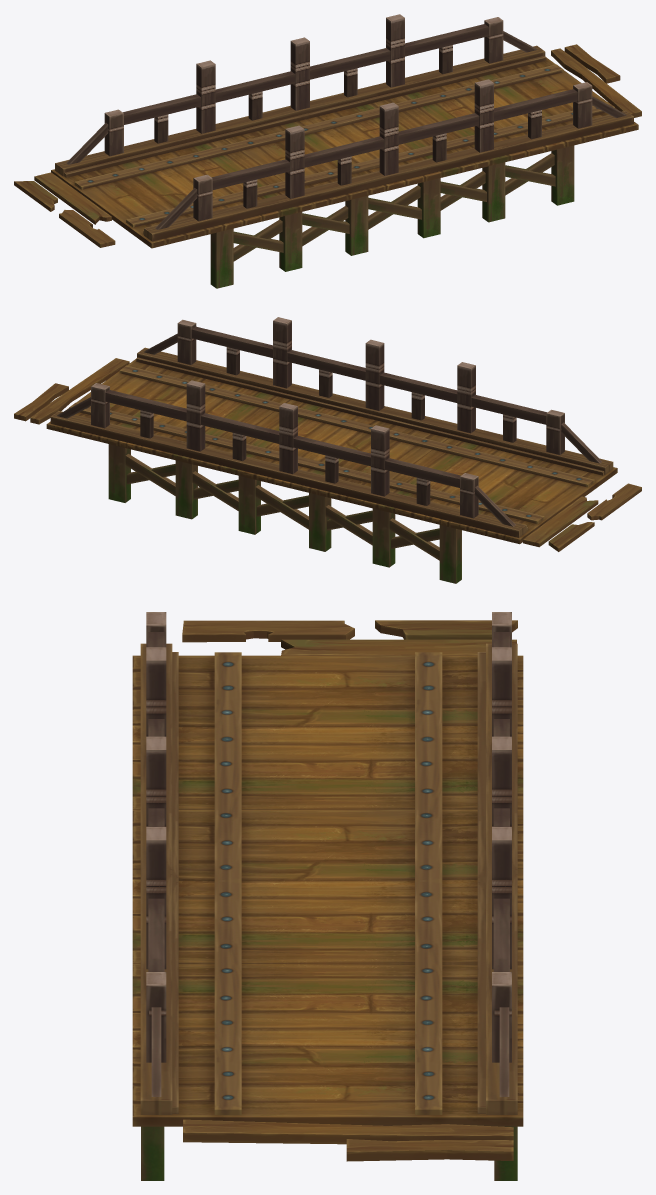
The model's file is Stage_CaoYuan_MuQiao01.FBX.
The picture shows the model from 3 angles, top to bottom: view 1: azimuth 30°, elevation 25°; view 2: azimuth 150°, elevation 25°; view 3: azimuth 270°, elevation 25°; orthographic projection. The views are drawn at different scales.
Visible parts, largest first — view 1: Stage_CaoYuan_MuQiao01; view 2: Stage_CaoYuan_MuQiao01; view 3: Stage_CaoYuan_MuQiao01.
Part boxes in pixels (bbox=[...]): Stage_CaoYuan_MuQiao01: bbox=[14, 14, 641, 288]; Stage_CaoYuan_MuQiao01: bbox=[14, 317, 641, 583]; Stage_CaoYuan_MuQiao01: bbox=[132, 612, 523, 1180].
Size of the model in its own units: 765 by 178 by 237.
